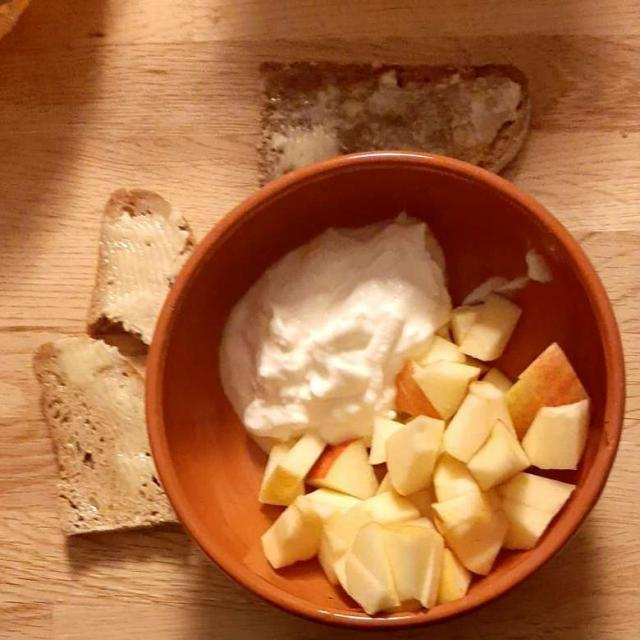apple: (258, 297, 593, 609)
bread: (36, 47, 532, 539)
butter: (71, 80, 518, 518)
